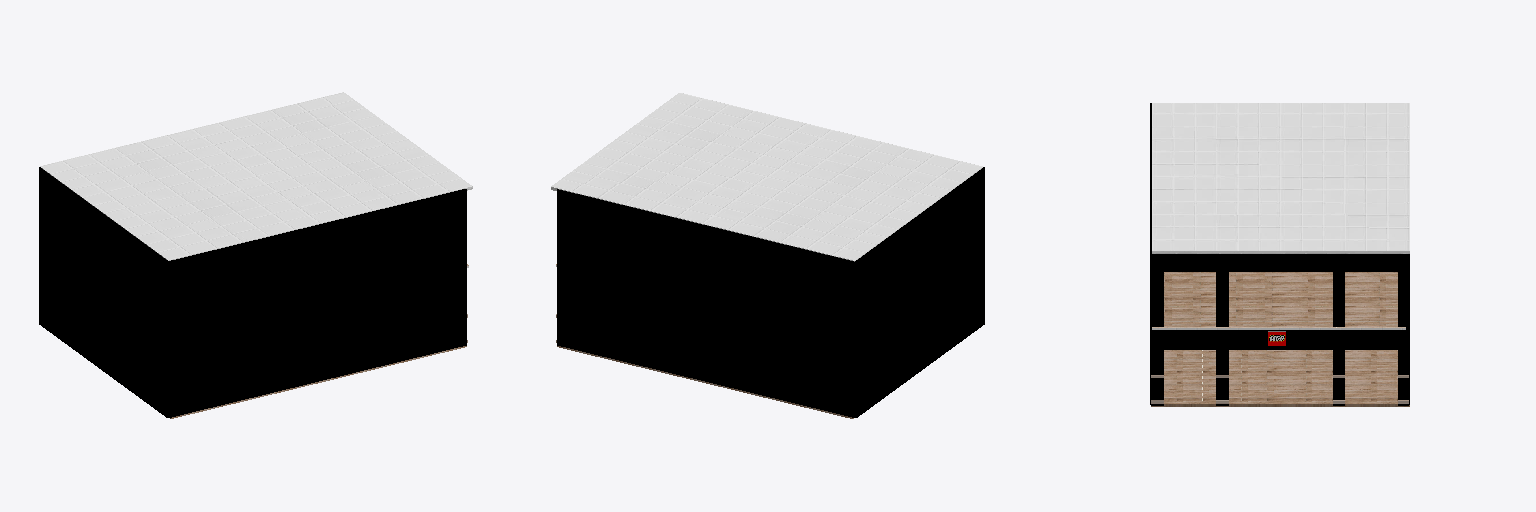
3 views of the same model, side by side, from view 1: azimuth 30°, elevation 25°; view 2: azimuth 150°, elevation 25°; view 3: azimuth 270°, elevation 25° (orthographic).
Parts seen in each view (by area): view 1: fachada:pasted__pasted__pasted__pasted__pasted__pCube10; view 2: fachada:pasted__pasted__pasted__pasted__pasted__pCube10; view 3: fachada:pasted__pasted__pasted__pasted__pasted__pCube10, fachada:pCube17group259, fachada:pasted__pasted__pCube1group252group250group251.
Part boxes in pixels (x1,y1,x2,y2): fachada:pasted__pasted__pasted__pasted__pasted__pCube10: (39,92,472,417); fachada:pasted__pasted__pasted__pasted__pasted__pCube10: (551,93,984,417); fachada:pasted__pasted__pasted__pasted__pasted__pCube10: (1150,103,1409,405); fachada:pCube17group259: (1152,272,1405,329); fachada:pasted__pasted__pCube1group252group250group251: (1151,350,1409,406).
Bounding box in the file's own units: 25 × 12.43 × 18.39.
Materials: 54 (4 with a texture image).